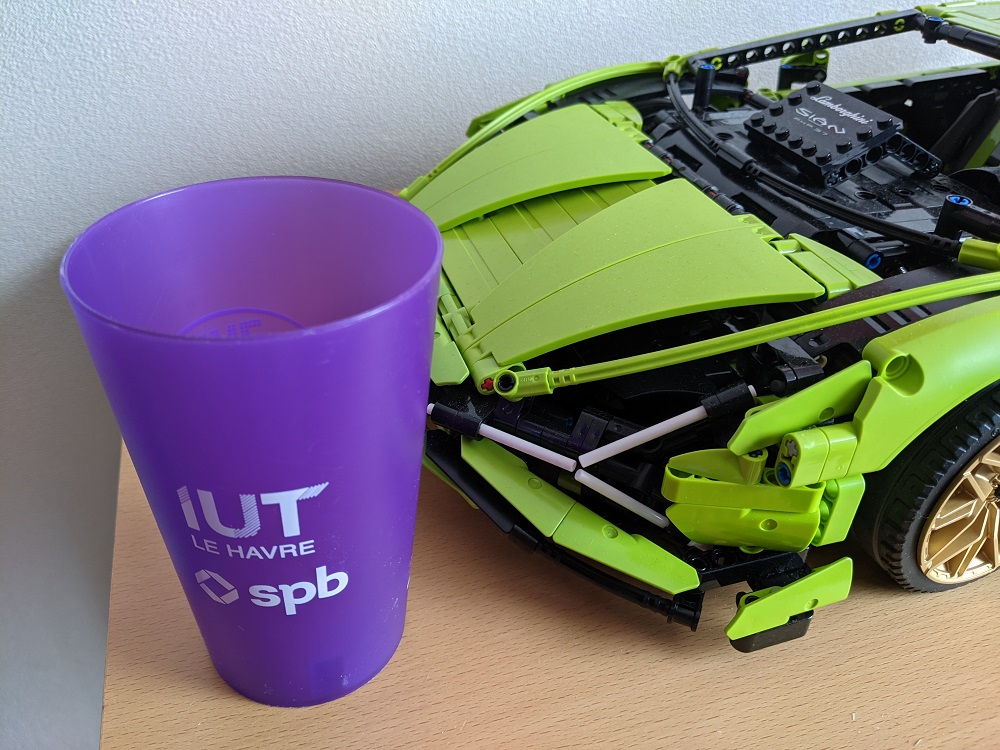ecocup: (61, 169, 445, 709)
